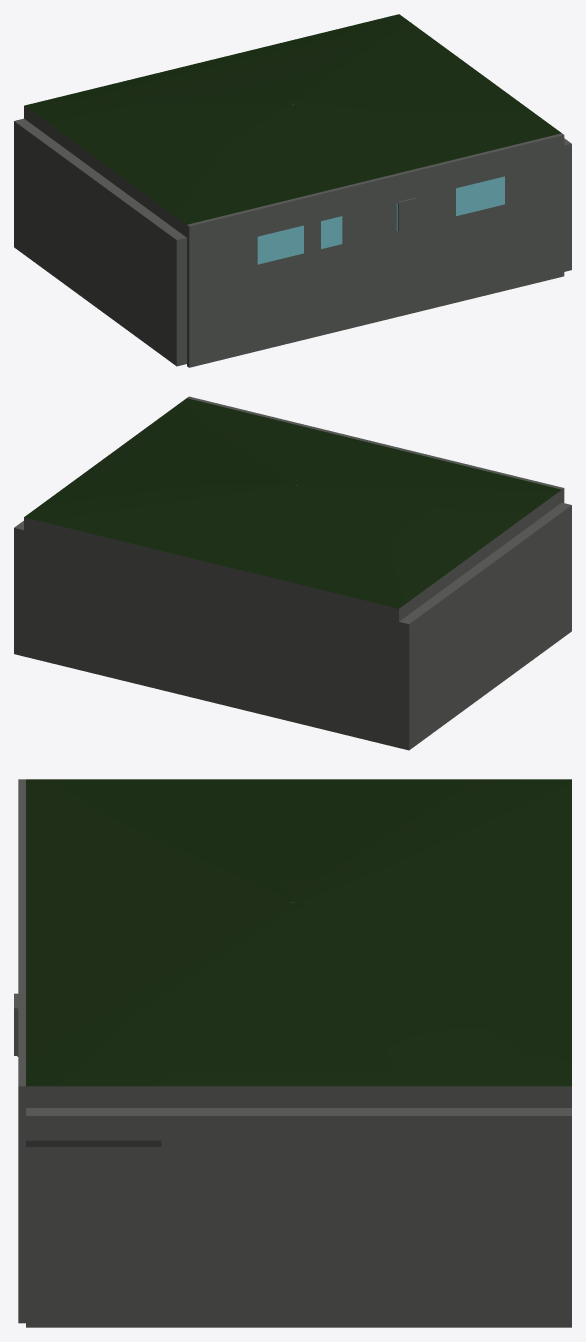
File: Hangar(OK).fbx
3 renders of one model, top to bottom at view 1: azimuth 30°, elevation 25°; view 2: azimuth 150°, elevation 25°; view 3: azimuth 270°, elevation 25°, orthographic. The views are drawn at different scales.
Visible parts, largest first — view 1: Cube; view 2: Cube; view 3: Cube.
Boxes of the visible parts, x1=… form: Cube: x1=14, y1=14, x2=571, y2=367; Cube: x1=14, y1=396, x2=571, y2=750; Cube: x1=14, y1=779, x2=571, y2=1327.
Size of the model in its own units: 92522 by 35487 by 67482.
